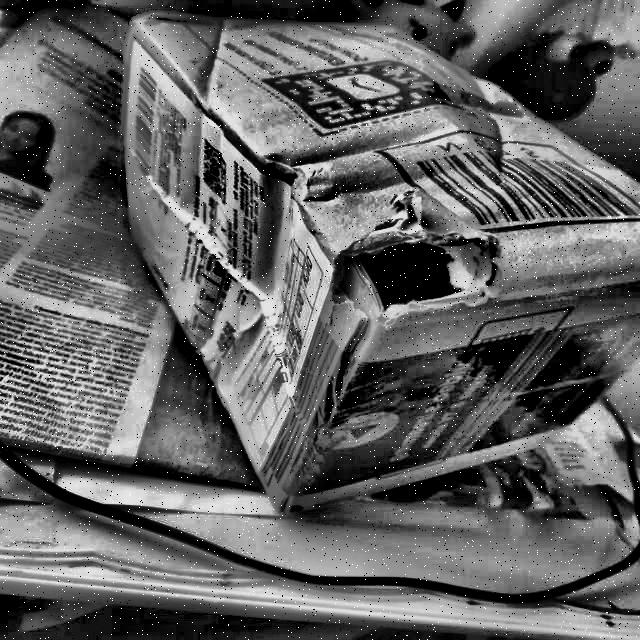box: (97, 0, 640, 534)
hole: (330, 228, 469, 330)
